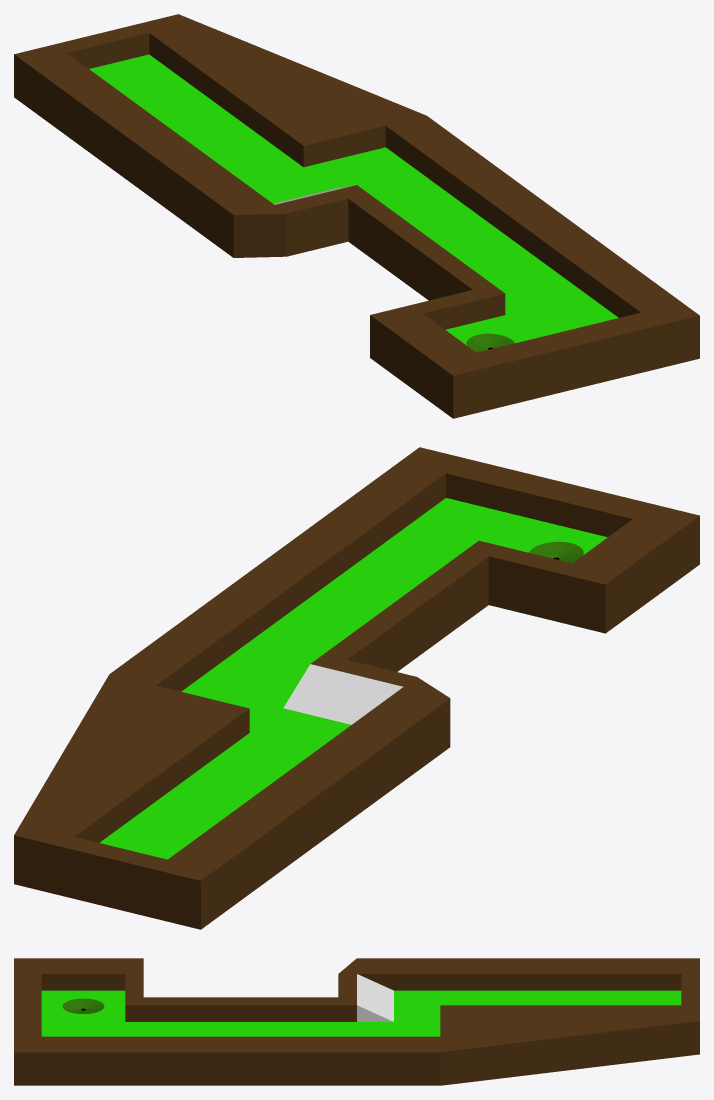
The model's file is Hole1.fbx.
3 views of the same model, one above another, from view 1: azimuth 30°, elevation 25°; view 2: azimuth 150°, elevation 25°; view 3: azimuth 270°, elevation 25° (orthographic). The views are drawn at different scales.
Visible parts, largest first — view 1: Hole1_Walls, Hole1_Base; view 2: Hole1_Walls, Hole1_Base, Ramp; view 3: Hole1_Walls, Hole1_Base, Ramp.
Part boxes in pixels (x1,y1,x2,y2): Hole1_Walls: (14, 14, 699, 418); Hole1_Base: (89, 54, 618, 352); Hole1_Walls: (14, 447, 699, 929); Hole1_Base: (99, 498, 607, 859); Ramp: (283, 664, 403, 724); Hole1_Walls: (14, 958, 699, 1085); Hole1_Base: (41, 990, 681, 1036); Ramp: (357, 974, 393, 1021).
Bounding box in the file's own units: 1200 × 200 × 3700.
